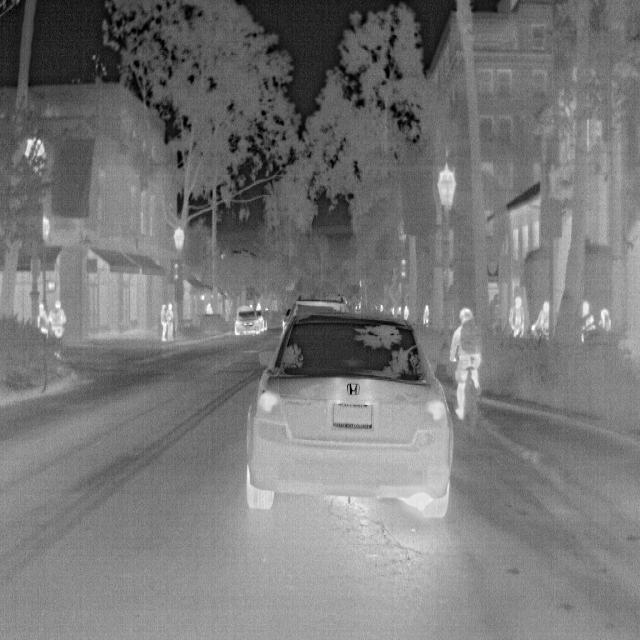Pedestrian: (446, 304, 484, 431), (48, 300, 66, 348), (578, 300, 596, 348), (508, 295, 526, 341), (532, 301, 551, 344), (36, 301, 49, 342), (598, 306, 614, 339), (166, 303, 175, 343), (421, 304, 431, 328), (160, 305, 166, 343), (205, 302, 213, 322), (402, 304, 409, 324)
Vehicle: (242, 290, 457, 522)
